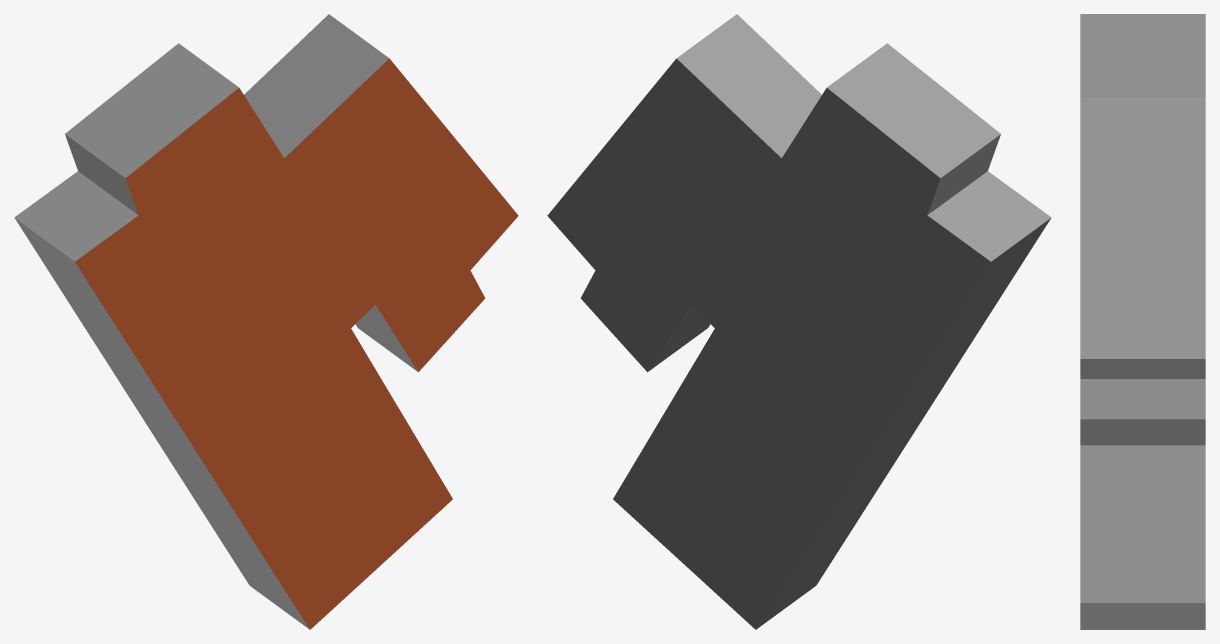
Rendered from construction_2048_assumed_A_Casa_h6m.obj.
3 renders of one model, left to right at view 1: azimuth 30°, elevation 25°; view 2: azimuth 150°, elevation 25°; view 3: azimuth 270°, elevation 25°, orthographic. The views are drawn at different scales.
Parts seen in each view (by area): view 1: construction_2048_assumed_A_Casa; view 2: construction_2048_assumed_A_Casa; view 3: construction_2048_assumed_A_Casa.
Part boxes in pixels (x1,y1,x2,y2): construction_2048_assumed_A_Casa: (14, 14, 518, 629); construction_2048_assumed_A_Casa: (547, 14, 1051, 629); construction_2048_assumed_A_Casa: (1080, 14, 1205, 629).
Size of the model in its own units: 25.38 by 30.58 by 6.
